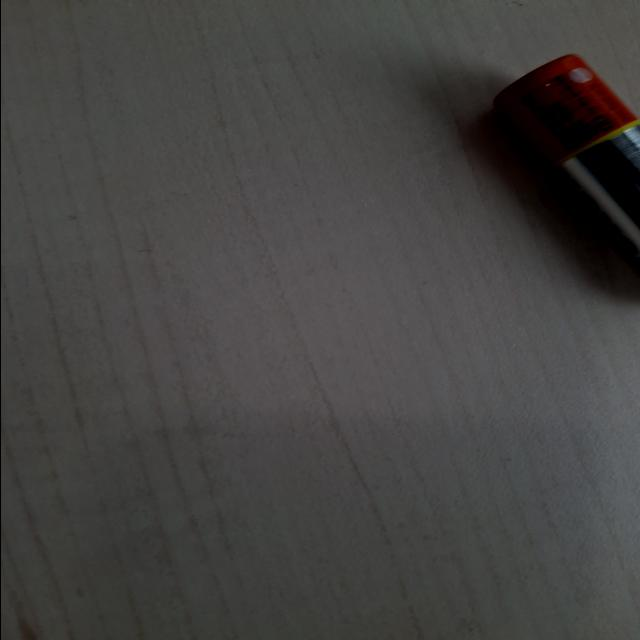AA: (0, 0, 139, 109)
